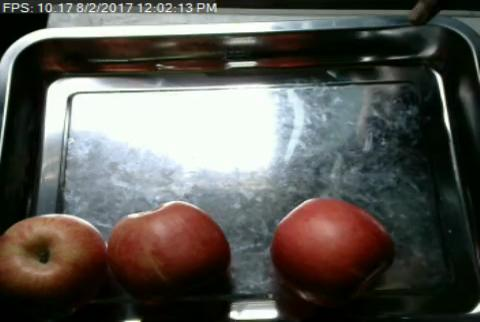apple: (273, 198, 394, 304), (107, 201, 230, 305), (0, 212, 108, 315)
